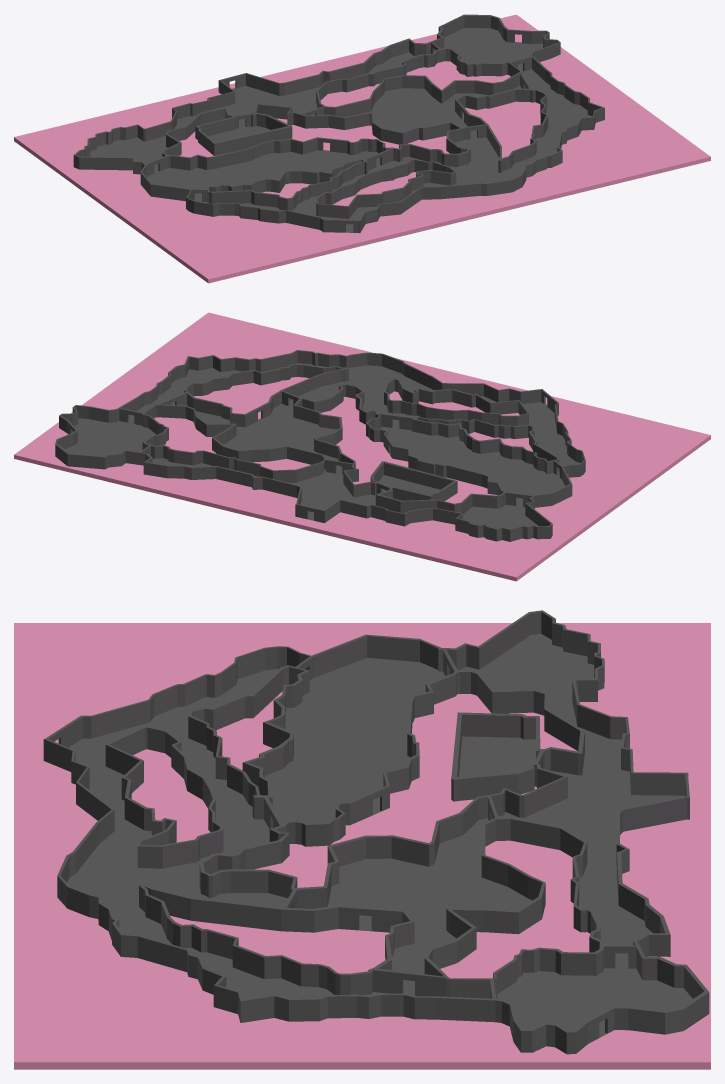
The model's file is TalesLocation.fbx.
The picture shows the model from 3 angles, top to bottom: view 1: azimuth 30°, elevation 25°; view 2: azimuth 150°, elevation 25°; view 3: azimuth 270°, elevation 25°; orthographic projection. The views are drawn at different scales.
Visible parts, largest first — view 1: Wall1, Cube; view 2: Wall1, Cube; view 3: Wall1, Cube.
Part boxes in pixels (bbox=[...]): Wall1: bbox=[73, 14, 604, 232]; Cube: bbox=[14, 14, 710, 283]; Wall1: bbox=[55, 350, 585, 541]; Cube: bbox=[14, 312, 710, 581]; Wall1: bbox=[43, 610, 709, 1054]; Cube: bbox=[14, 623, 710, 1069].
Size of the model in its own units: 12996 by 427 by 8710.
